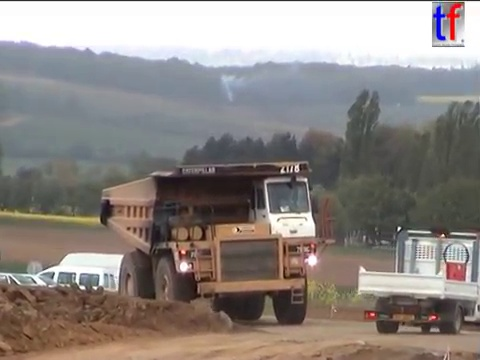truck: (97, 158, 336, 327), (355, 222, 480, 337)
